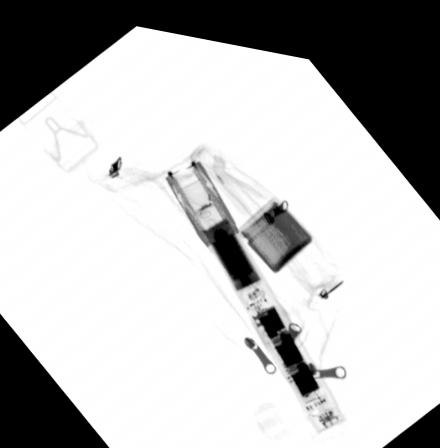Baton: (161, 149, 346, 421)
